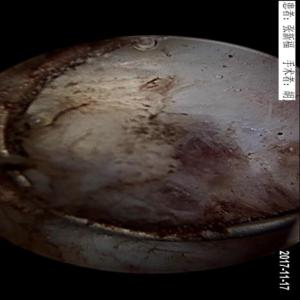film: (85, 111, 291, 213)
